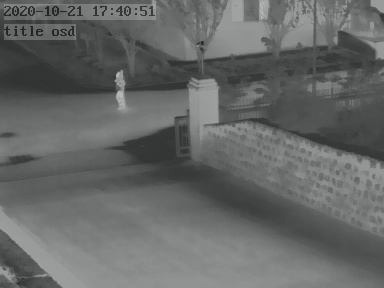person: (113, 69, 126, 107)
